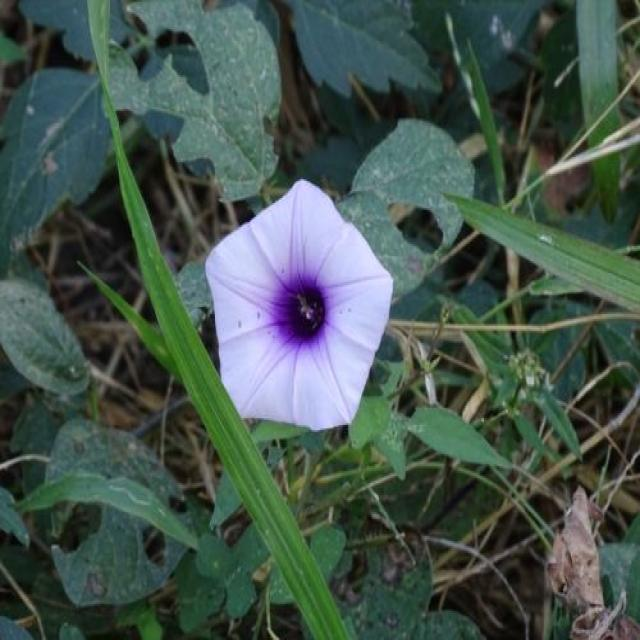ipomoea: (201, 176, 397, 437)
